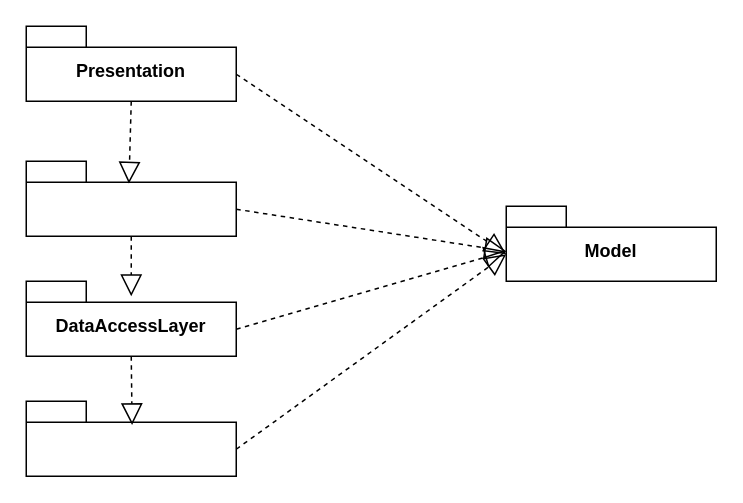
Image size: 743x503. Some labels were removed from this diagram. Here are the shapes that lost their labels. From the top down, the box of each, then its label:
(25, 160, 236, 236): BusinessLayer
(25, 400, 236, 476): Connection
